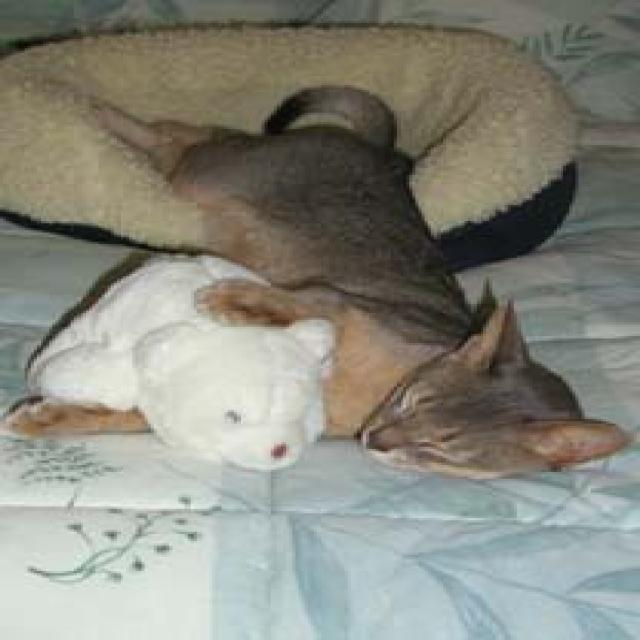Abyssinian: (351, 285, 633, 494)
